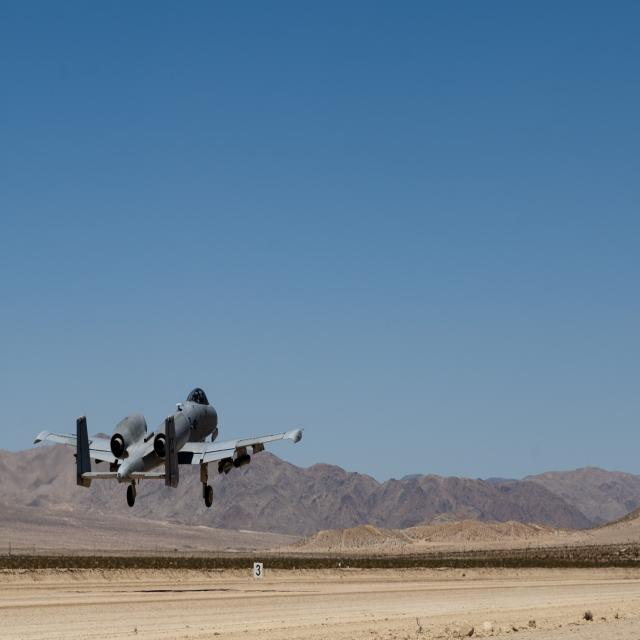MIL_Plane: (33, 388, 304, 508)
